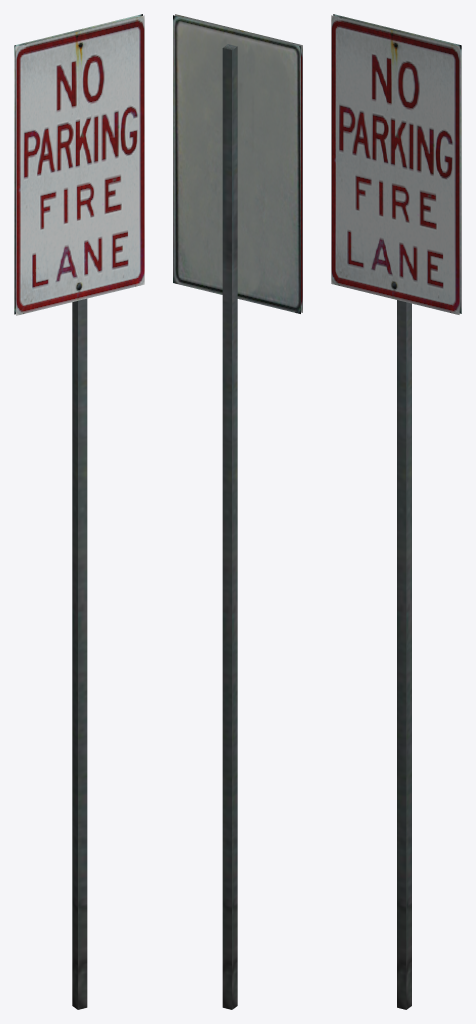
Rendered from noparkfireline.obj.
3 views of the same model, side by side, from view 1: azimuth 30°, elevation 25°; view 2: azimuth 150°, elevation 25°; view 3: azimuth 330°, elevation 25° (orthographic).
Visible parts, largest first — view 1: handicawparking01; view 2: handicawparking01; view 3: handicawparking01.
Boxes of the visible parts, left/top/right/bottom form: handicawparking01: left=14, top=14, right=144, bottom=1009; handicawparking01: left=173, top=14, right=302, bottom=1009; handicawparking01: left=331, top=14, right=461, bottom=1009.
Bounding box in the file's own units: 0.2663 × 1.94 × 0.0265.
Materials: 1 (1 with a texture image).
